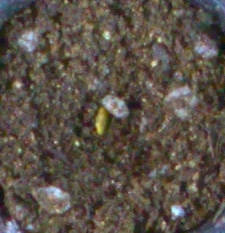chilli seed: (95, 107, 104, 135)
